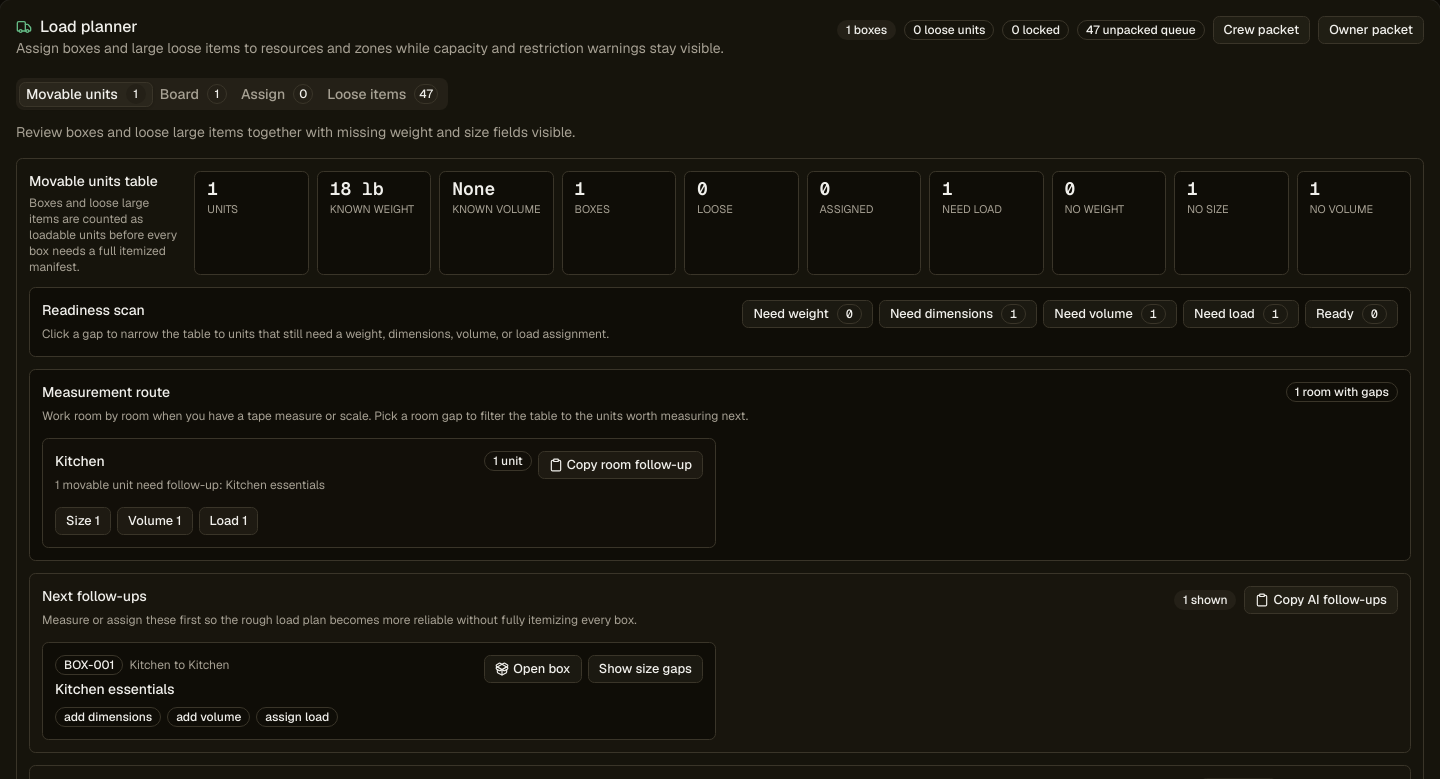
LoadPlannerBoard task tabs › states the real loose-item cap count
Step 1. Click the tab with aria-label "Loose items: 47 items" → (383,94), box x1=320 y1=82 x2=445 y2=106
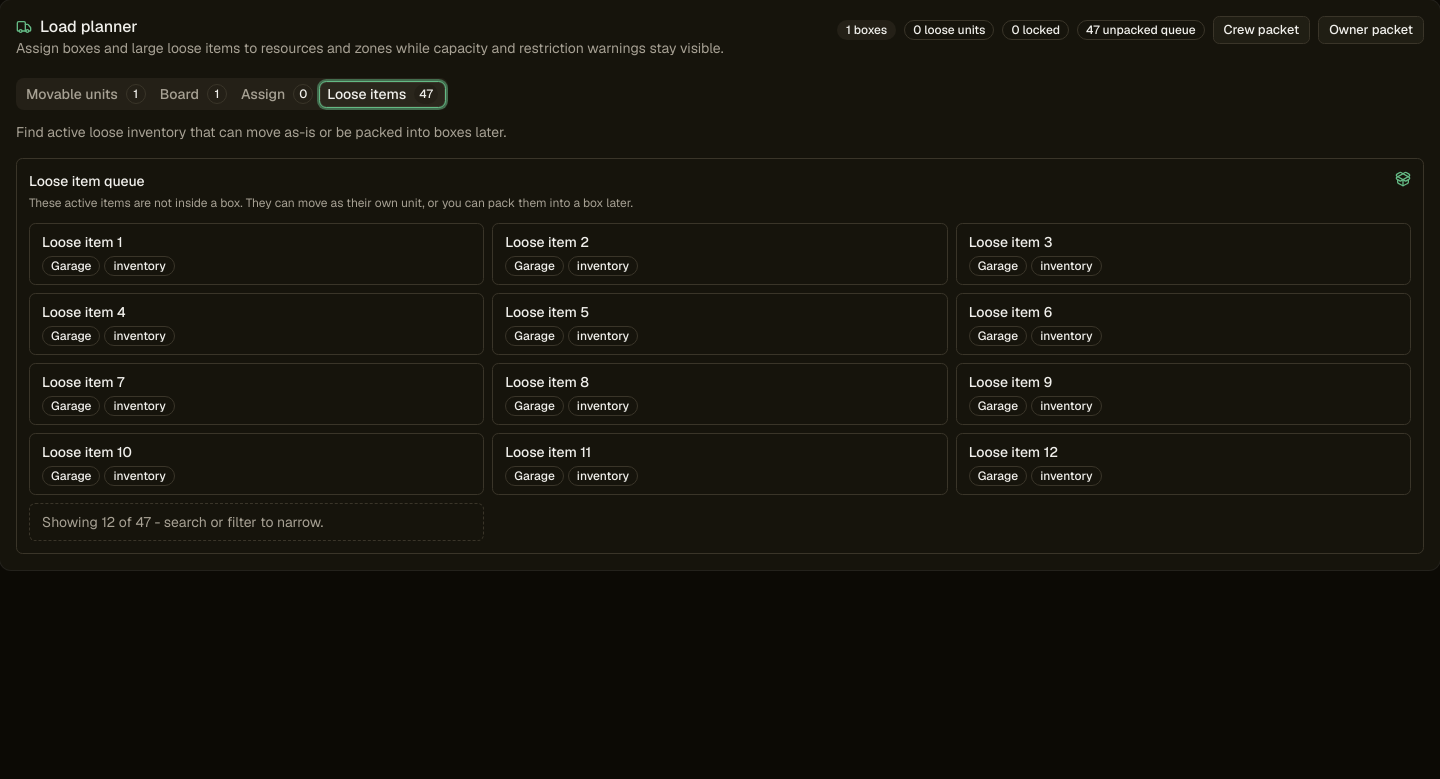
Result: the text "Showing 12 of 47 - search or filter to narrow." is shown at x1=29 y1=503 x2=484 y2=541
Result: the text "Loose item 12" is shown at x1=969 y1=443 x2=1058 y2=461
